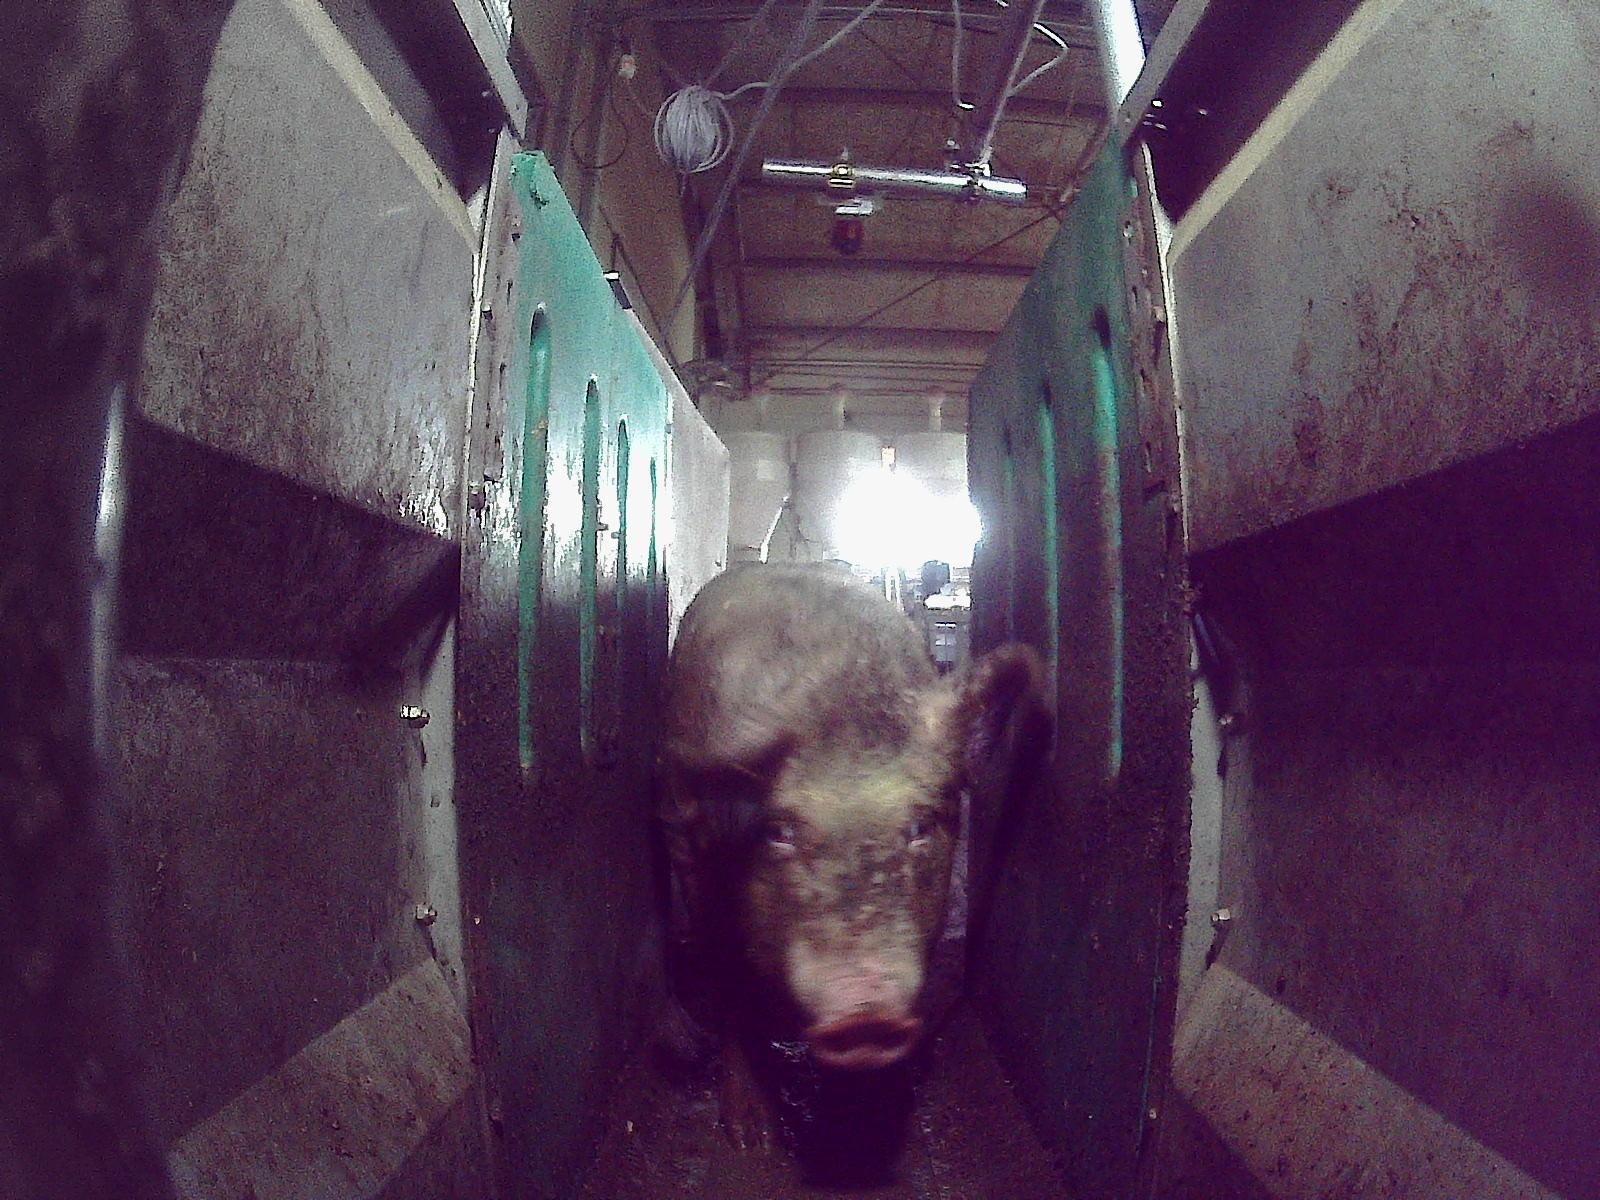Face: (715, 685, 953, 1067)
